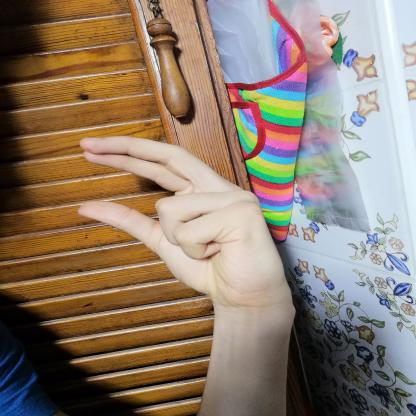DHELL: (60, 127, 307, 312)
